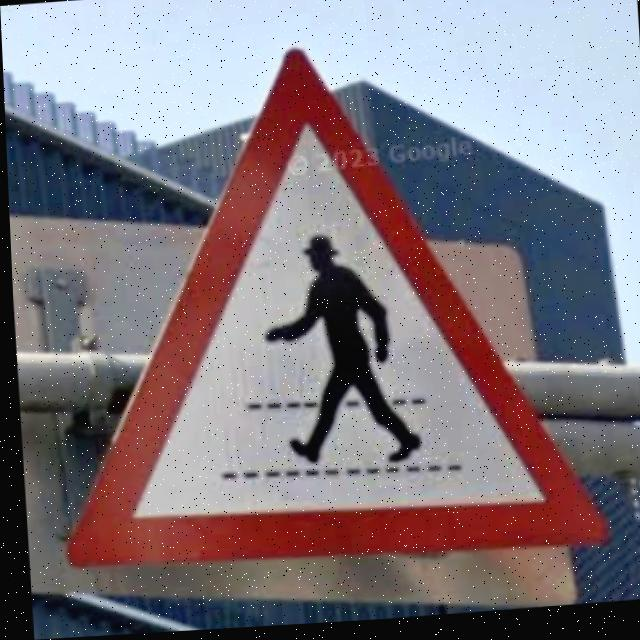pedestriancross: (60, 53, 603, 570)
